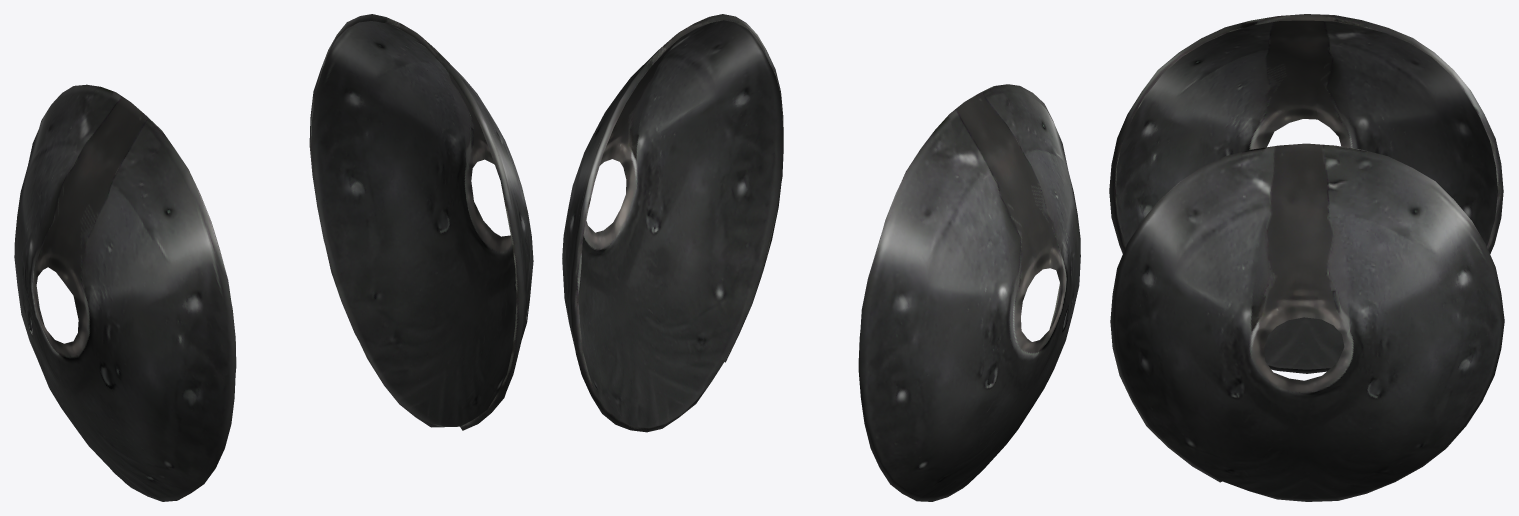
The model's file is wheel_side_part.glb.
3 views of the same model, side by side, from view 1: azimuth 30°, elevation 25°; view 2: azimuth 150°, elevation 25°; view 3: azimuth 270°, elevation 25° (orthographic). The views are drawn at different scales.
Parts seen in each view (by area): view 1: wheel_side_part; view 2: wheel_side_part; view 3: wheel_side_part.
Boxes of the visible parts, bbox=[...] form: wheel_side_part: bbox=[14, 14, 533, 501]; wheel_side_part: bbox=[562, 14, 1080, 501]; wheel_side_part: bbox=[1109, 14, 1504, 501].
Bounding box in the file's own units: 0.8164 × 0.6875 × 0.6855.
1 material, 1 textured.
